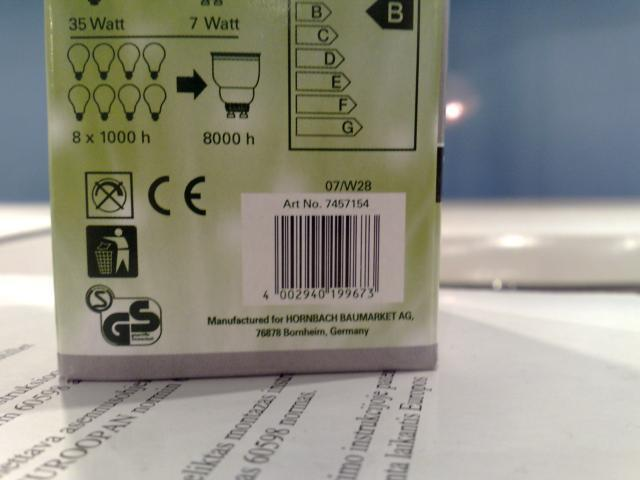Barcode: (241, 193, 406, 306)
